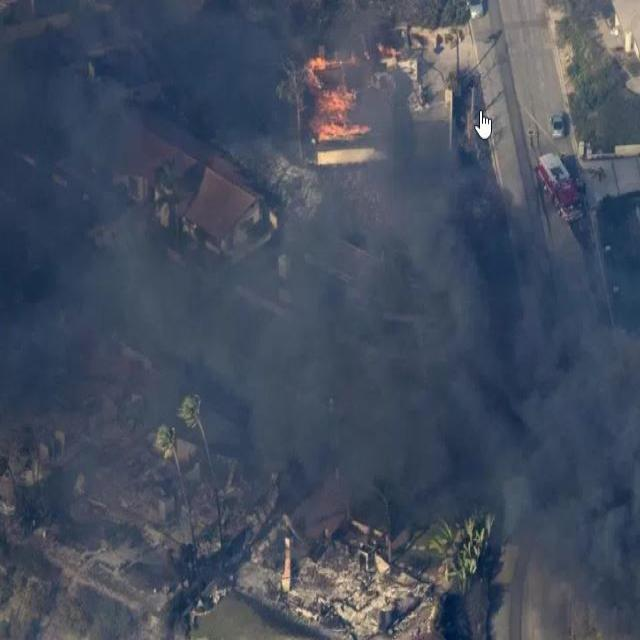Fire: (301, 41, 375, 157)
Smoke: (306, 160, 638, 568), (7, 0, 279, 465)
